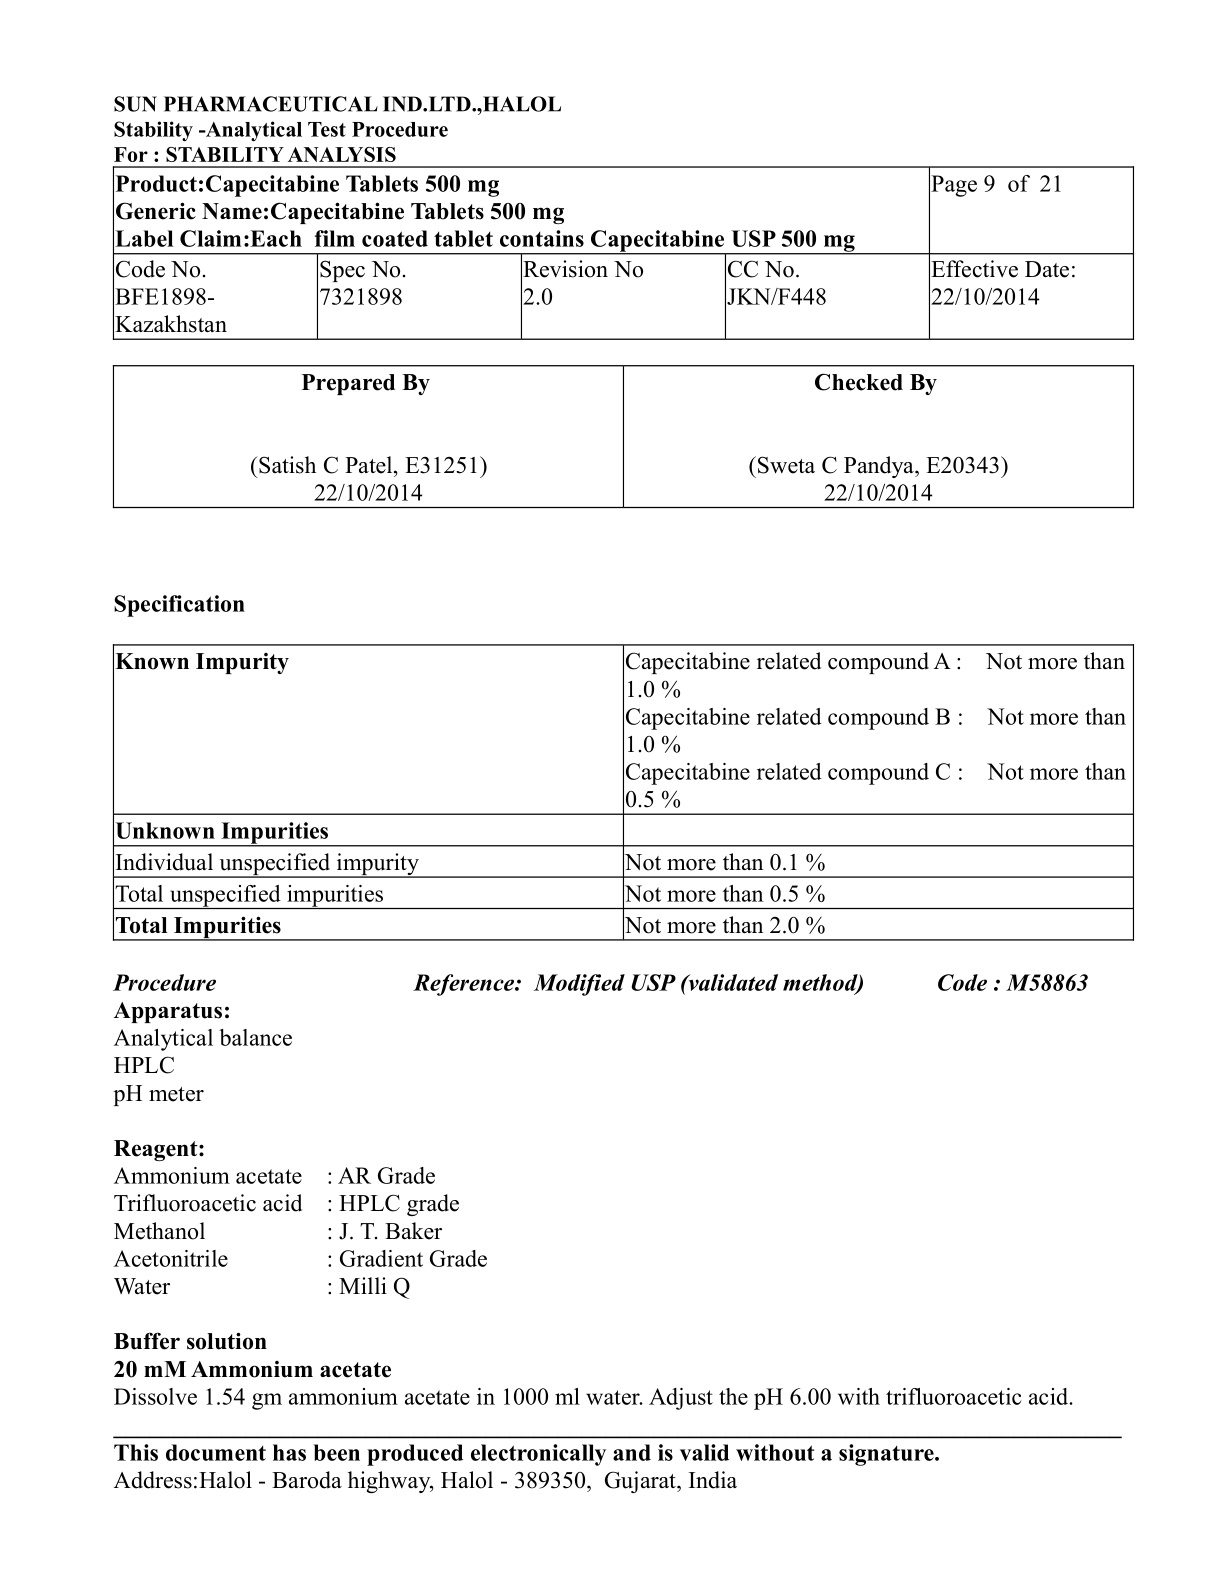full_lined: (112, 643, 1135, 942), (112, 363, 1135, 509)
merged_cells: (112, 166, 1135, 341)
